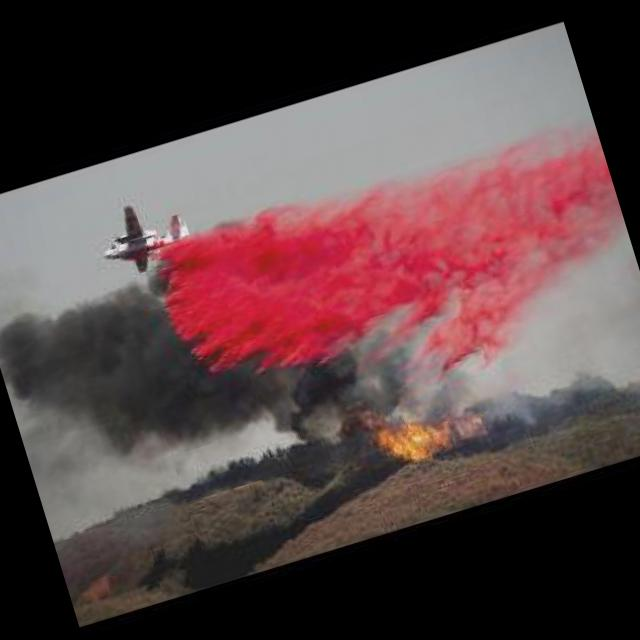fire: (376, 394, 456, 470)
smoke: (347, 238, 640, 433), (0, 268, 225, 492)
